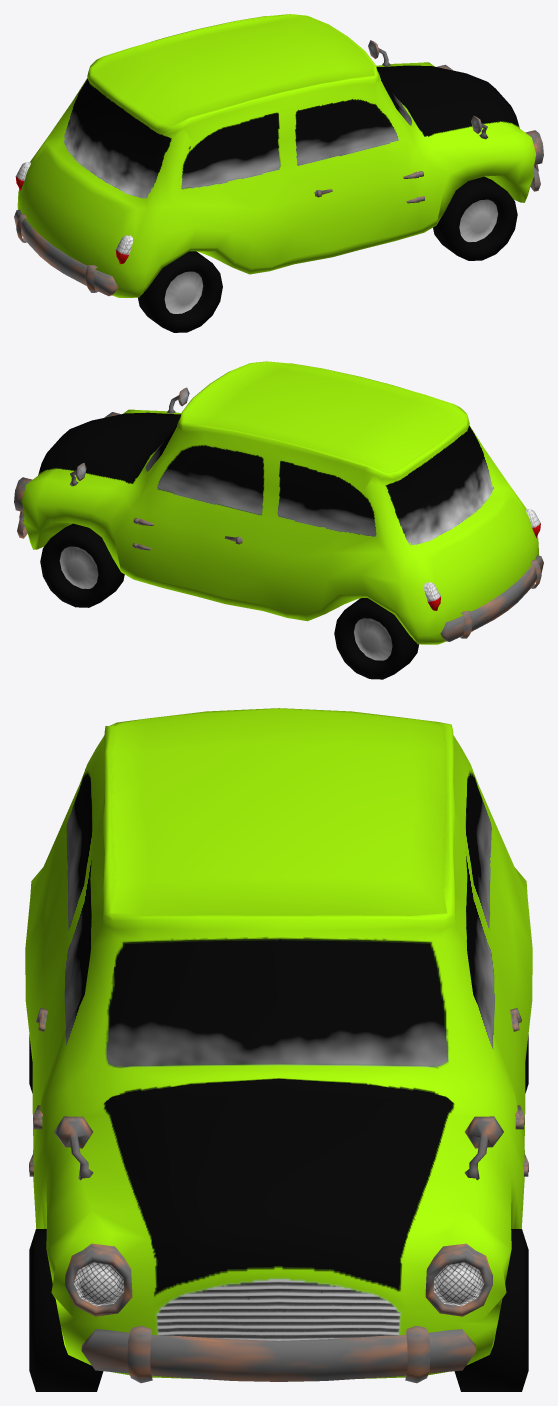
Rendered from STYLOO_lowpolycargreenvariant2.fbx.
The picture shows the model from 3 angles, top to bottom: view 1: azimuth 30°, elevation 25°; view 2: azimuth 150°, elevation 25°; view 3: azimuth 270°, elevation 25°; orthographic projection. The views are drawn at different scales.
Visible parts, largest first — view 1: car.004, lowpolywheel.017, lowpolywheel.018, Cube.013, backlight.004, RETROVISEURLOW.004; view 2: car.004, lowpolywheel.020, lowpolywheel.019, Cube.013, backlight.004, RETROVISEURLOW.004; view 3: car.004, Cube.014, lightinfront.004, lowpolywheel.020, lowpolywheel.017, RETROVISEURLOW.004, Cube.015.
Part boxes in pixels (<box>): car.004: <box>17,14,536,297</box>; lowpolywheel.017: <box>433,176,517,260</box>; lowpolywheel.018: <box>138,251,222,332</box>; Cube.013: <box>14,209,118,296</box>; backlight.004: <box>15,162,132,264</box>; RETROVISEURLOW.004: <box>368,40,488,139</box>; car.004: <box>21,361,538,644</box>; lowpolywheel.020: <box>40,523,124,607</box>; lowpolywheel.019: <box>334,598,418,679</box>; Cube.013: <box>440,555,543,641</box>; backlight.004: <box>424,509,540,610</box>; RETROVISEURLOW.004: <box>69,387,189,486</box>; car.004: <box>25,708,532,1378</box>; Cube.014: <box>81,1326,476,1383</box>; lightinfront.004: <box>65,1243,492,1316</box>; lowpolywheel.020: <box>454,1229,528,1391</box>; lowpolywheel.017: <box>29,1229,103,1391</box>; RETROVISEURLOW.004: <box>54,1116,503,1180</box>; Cube.015: <box>29,1008,528,1176</box>.
Size of the model in its own units: 813 by 346 by 393.
Materials: 2 (2 with a texture image).
